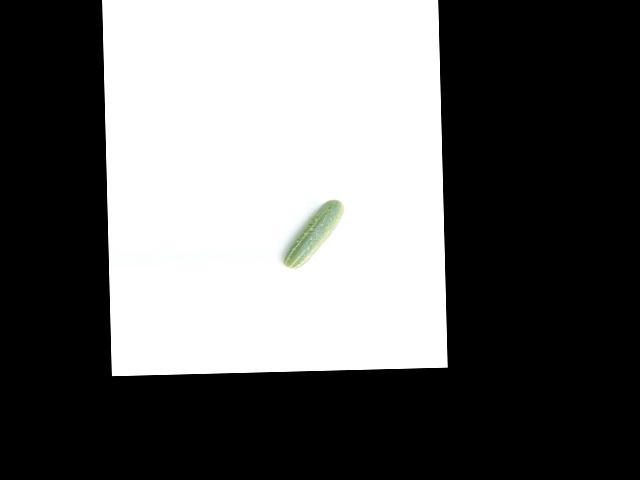cucumber: (281, 199, 346, 269)
